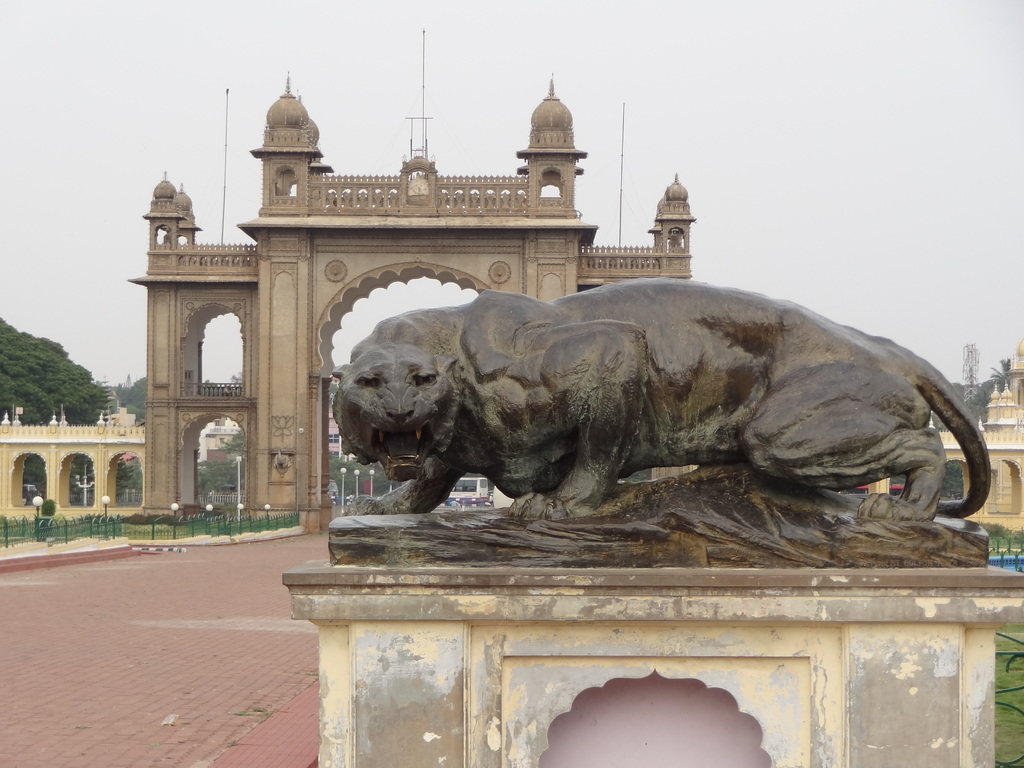Animal: (322, 281, 1002, 559)
